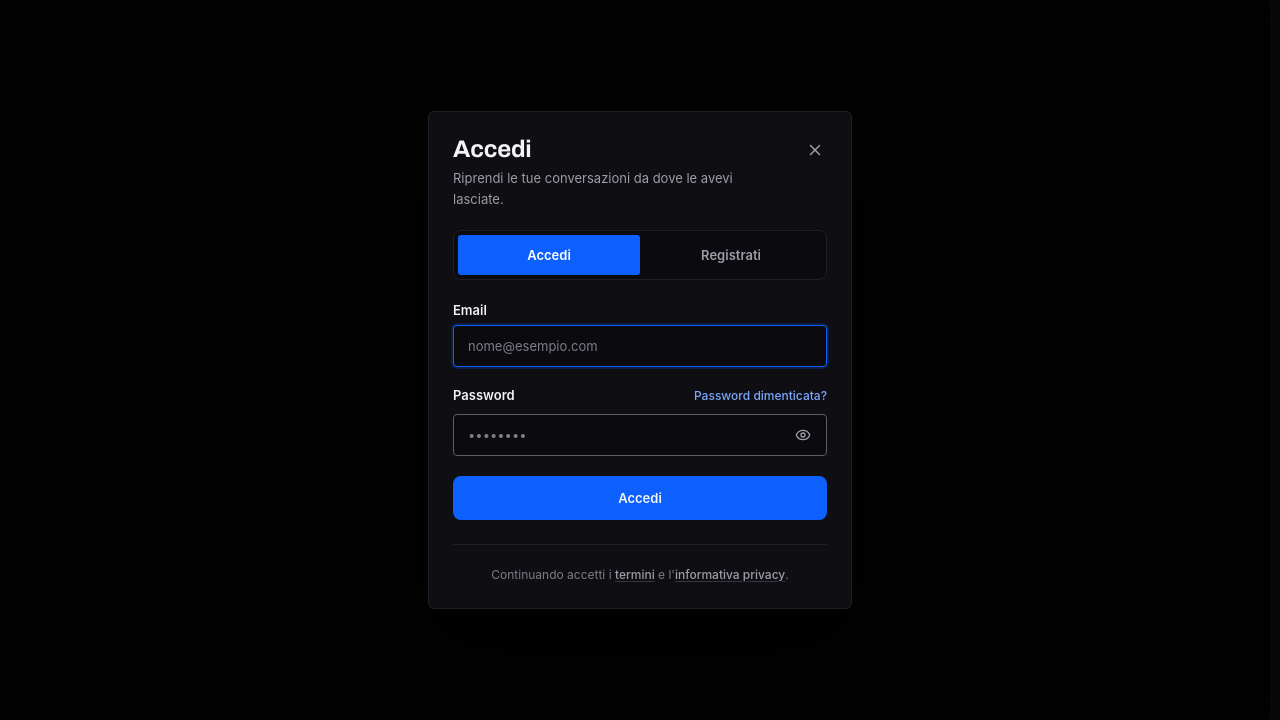
validazione istantanea › l'errore sparisce appena l'indirizzo diventa valido
This screenshot has width=1280, height=720.
Type "non-un-indirizzo" into the field labelled "Email".
click(640, 346); type("non-un-indirizzo")  # box [453,325,827,367]
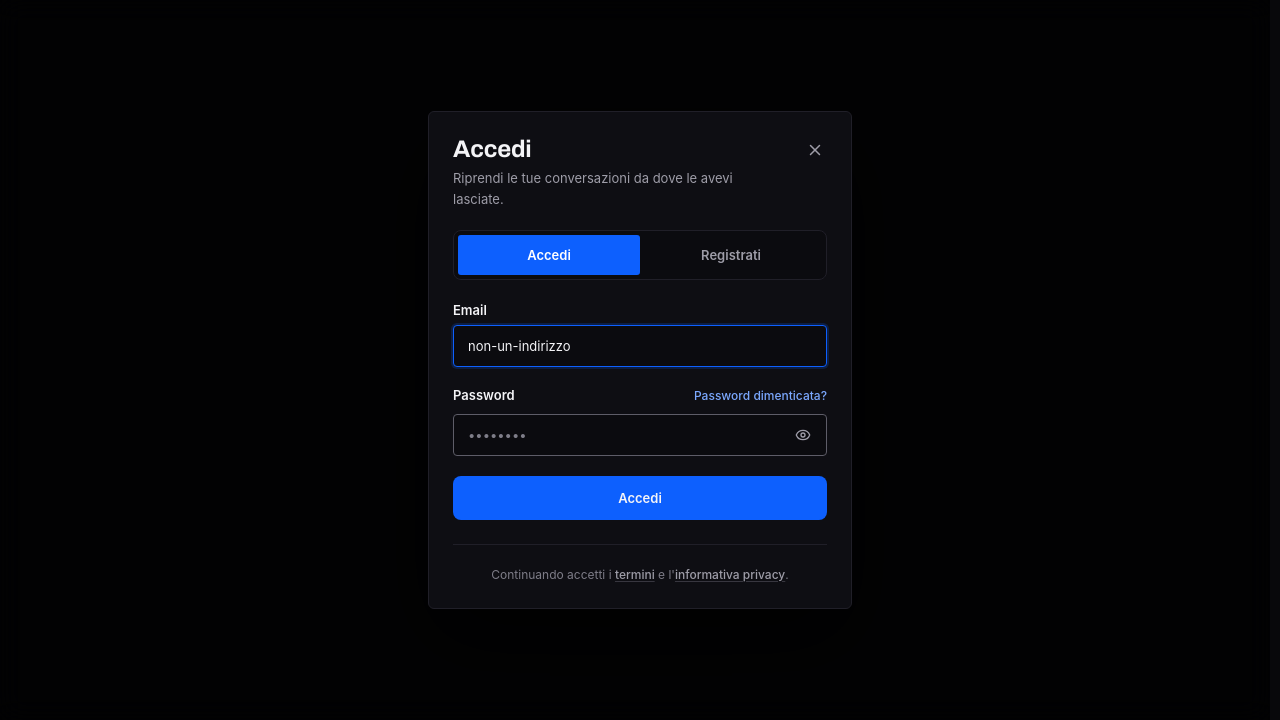
Press Tab
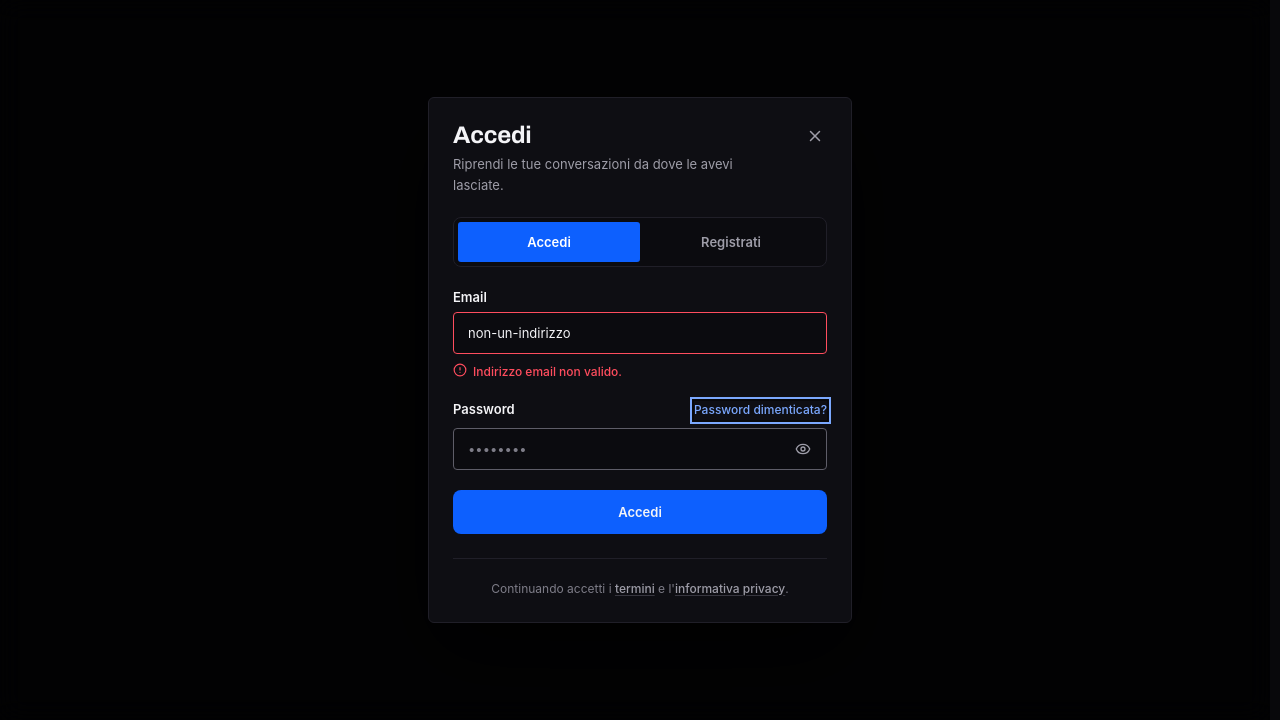
Now the text "Indirizzo email non valido." is shown, box [453,363,622,379]
Type "@example.com" into the field labelled "Email".
click(640, 333); type("@example.com")  # box [453,312,827,354]
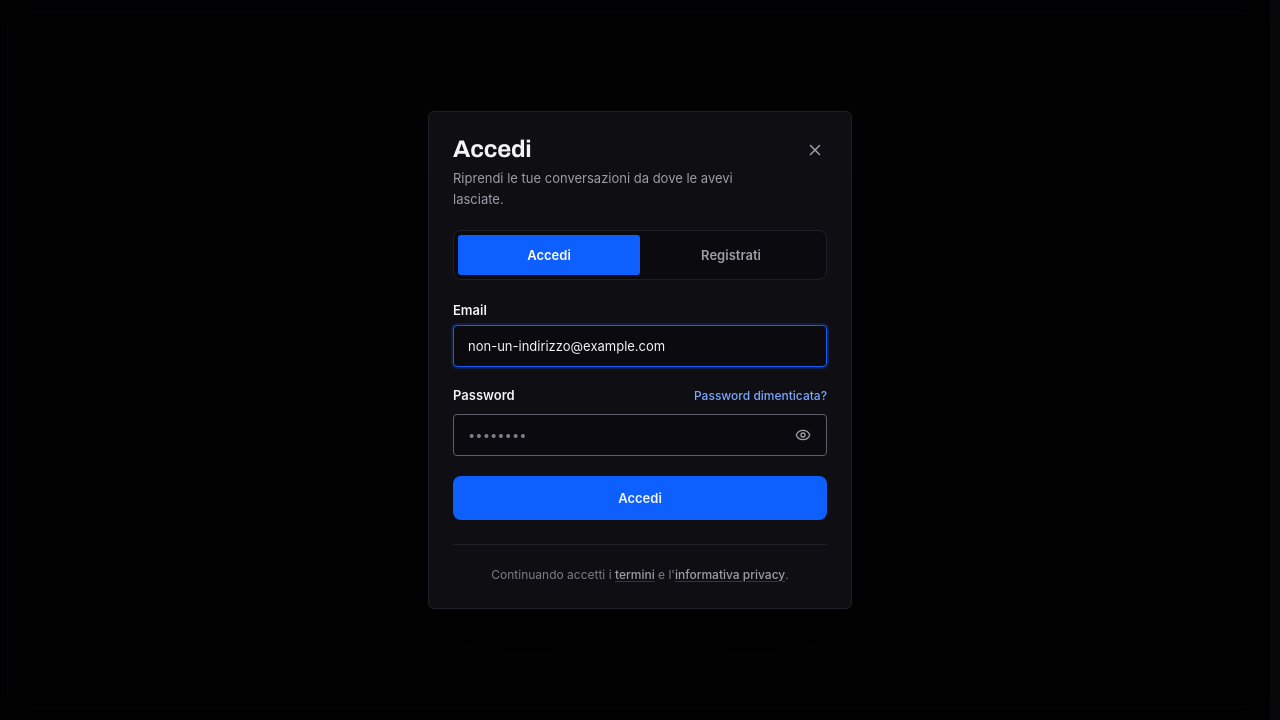
Now the text "Indirizzo email non valido" is gone
